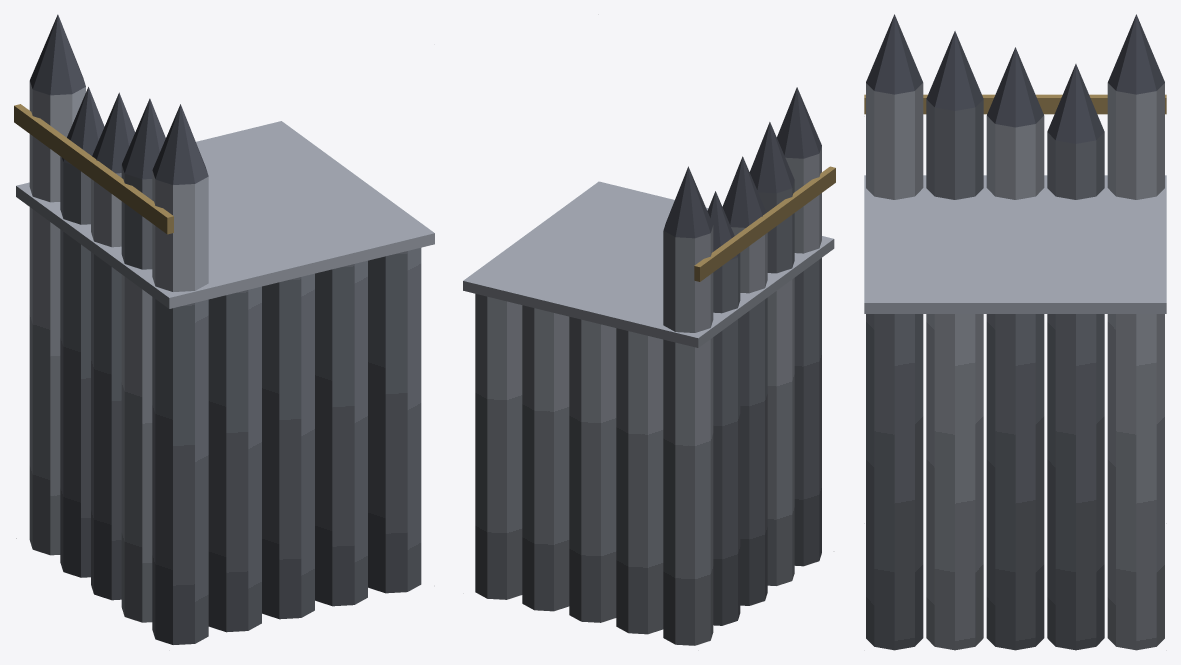
File: perimeter_wall_metal_f7.glb
3 views of the same model, side by side, from view 1: azimuth 30°, elevation 25°; view 2: azimuth 150°, elevation 25°; view 3: azimuth 270°, elevation 25° (orthographic). The views are drawn at different scales.
Bounding box in the file's own units: 2.01 × 3.9 × 2.
Materials: 1 (1 with a texture image).
